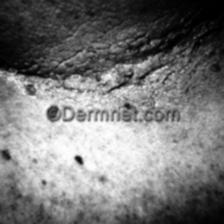Unclassified: (0, 30, 224, 104), (0, 72, 56, 172), (59, 145, 145, 195)
